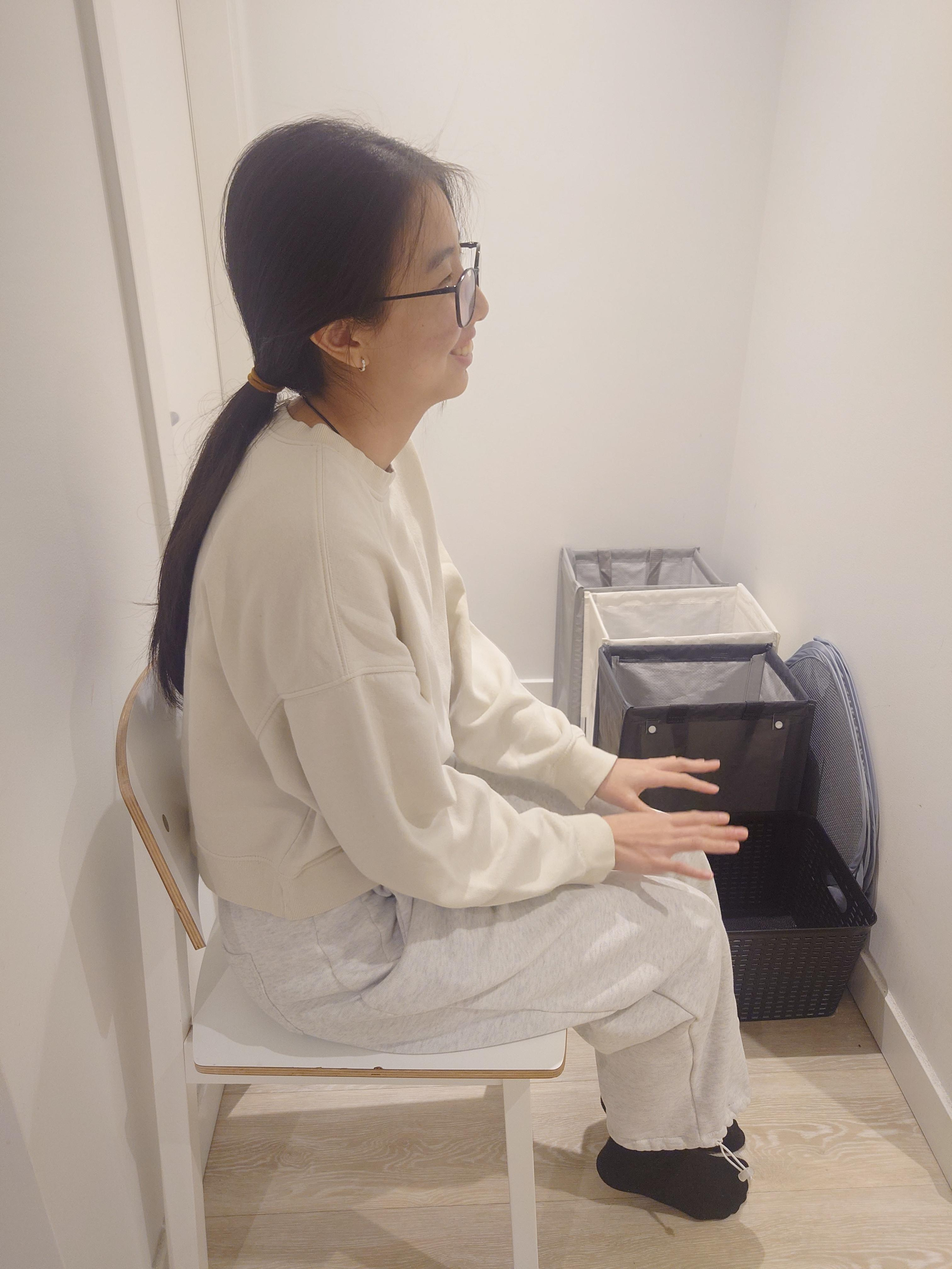GoodPosture: (147, 114, 749, 1220)
